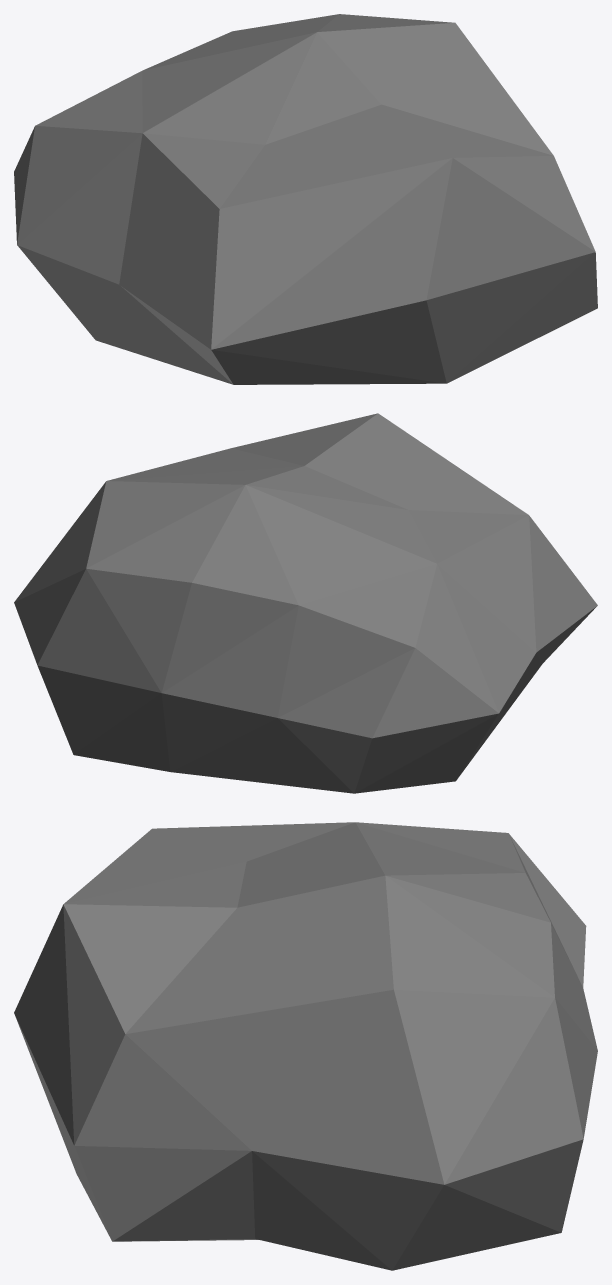
Rendered from Stone_02.fbx.
The picture shows the model from 3 angles, top to bottom: view 1: azimuth 30°, elevation 25°; view 2: azimuth 150°, elevation 25°; view 3: azimuth 270°, elevation 25°; orthographic projection. The views are drawn at different scales.
Parts seen in each view (by area): view 1: Cube; view 2: Cube; view 3: Cube.
Boxes of the visible parts, x1,y1,x2,y2 form: Cube: (14, 14, 597, 384); Cube: (14, 413, 597, 793); Cube: (14, 822, 597, 1270).
Bounding box in the file's own units: 561 × 318 × 484.
